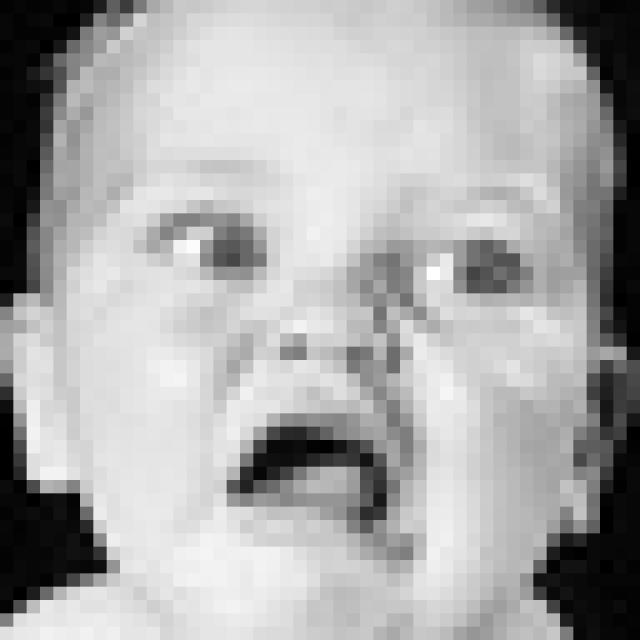disgust: (116, 172, 564, 577)
